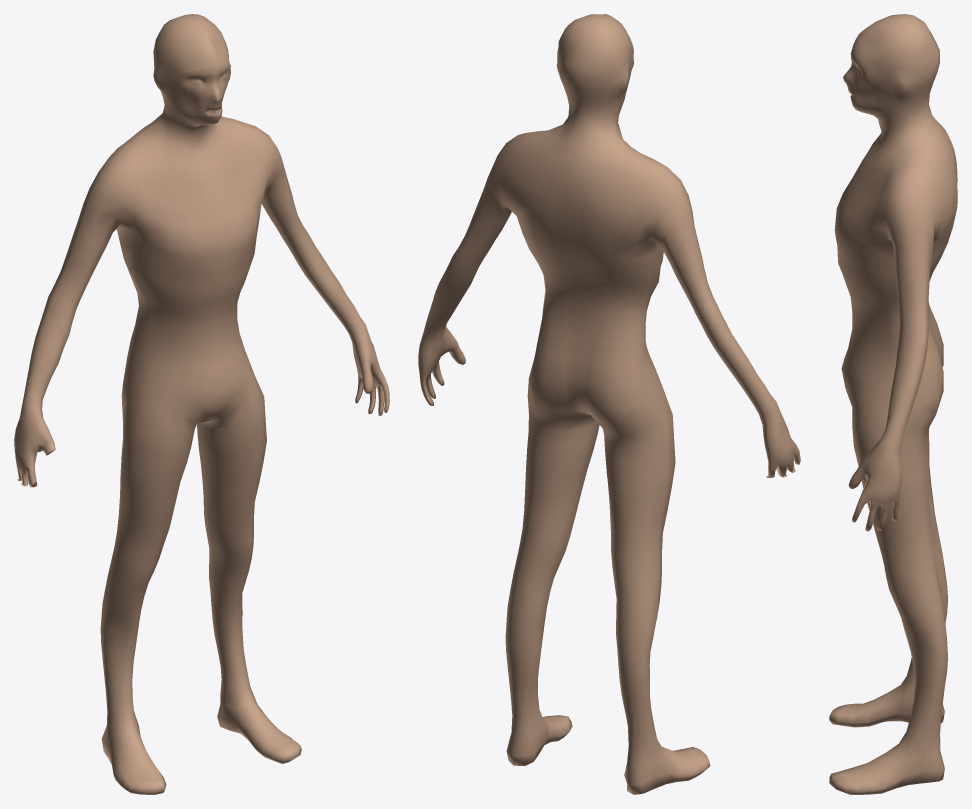
File: zombie.obj
3 views of the same model, side by side, from view 1: azimuth 30°, elevation 25°; view 2: azimuth 150°, elevation 25°; view 3: azimuth 270°, elevation 25° (orthographic).
Parts seen in each view (by area): view 1: humanBody; view 2: humanBody; view 3: humanBody.
Part boxes in pixels (x1,y1,x2,y2): humanBody: (14, 14, 389, 794); humanBody: (418, 14, 800, 794); humanBody: (829, 14, 957, 794).
Bounding box in the file's own units: 93.41 × 182 × 28.7.
